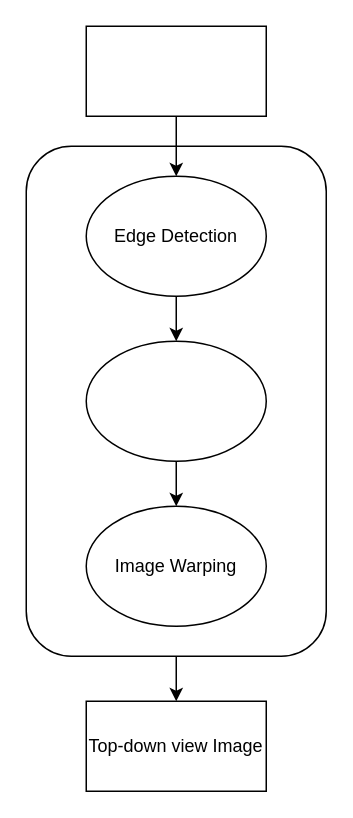
Some shapes in this 353 by 818 pixel diagram are drawn without their labels. The box of each missing label's shape, as (x1, y1, x2, y2) in pixels:
Contour Detection: (85, 340, 266, 461)
Original Image: (85, 25, 266, 116)
